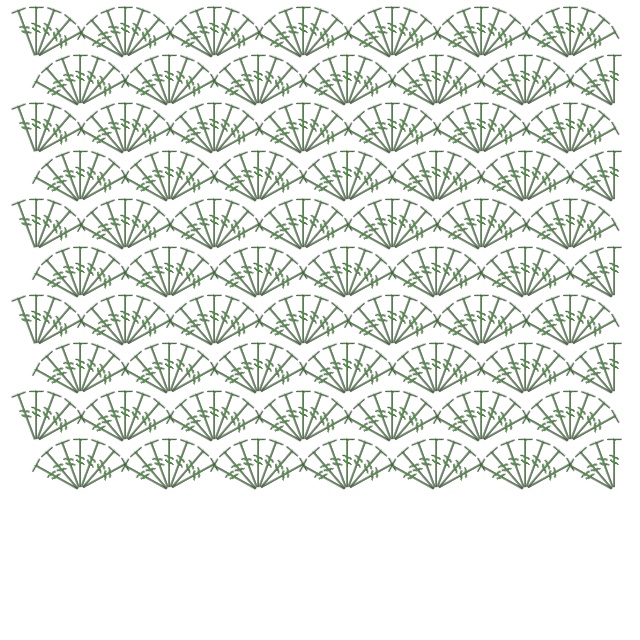fan: (30, 11, 79, 64), (84, 11, 133, 64), (119, 11, 168, 64), (173, 11, 222, 64), (208, 11, 257, 64), (262, 11, 311, 64), (297, 11, 346, 64), (351, 11, 400, 64), (386, 11, 435, 64), (440, 11, 489, 64), (475, 11, 524, 64), (529, 11, 578, 64), (564, 11, 613, 64), (39, 59, 88, 112), (74, 59, 123, 112), (128, 59, 177, 112), (163, 59, 212, 112), (217, 59, 266, 112), (252, 59, 301, 112), (306, 59, 355, 112), (341, 59, 390, 112), (395, 59, 444, 112), (430, 59, 479, 112), (484, 59, 533, 112), (519, 59, 568, 112), (573, 59, 622, 112), (30, 107, 79, 160), (84, 107, 133, 160), (119, 107, 168, 160), (173, 107, 222, 160), (208, 107, 257, 160), (262, 107, 311, 160), (297, 107, 346, 160), (351, 107, 400, 160), (386, 107, 435, 160), (440, 107, 489, 160), (475, 107, 524, 160), (529, 107, 578, 160), (564, 107, 613, 160), (39, 155, 88, 208), (74, 155, 123, 208), (128, 155, 177, 208), (163, 155, 212, 208), (217, 155, 266, 208), (252, 155, 301, 208), (306, 155, 355, 208), (341, 155, 390, 208), (395, 155, 444, 208), (430, 155, 479, 208), (484, 155, 533, 208), (519, 155, 568, 208), (573, 155, 622, 208), (30, 203, 79, 256), (84, 203, 133, 256), (119, 203, 168, 256), (173, 203, 222, 256), (208, 203, 257, 256), (262, 203, 311, 256), (297, 203, 346, 256), (351, 203, 400, 256), (386, 203, 435, 256), (440, 203, 489, 256), (475, 203, 524, 256), (529, 203, 578, 256), (564, 203, 613, 256), (39, 251, 88, 304), (74, 251, 123, 304), (128, 251, 177, 304), (163, 251, 212, 304), (217, 251, 266, 304), (252, 251, 301, 304), (306, 251, 355, 304), (341, 251, 390, 304), (395, 251, 444, 304), (430, 251, 479, 304), (484, 251, 533, 304), (519, 251, 568, 304), (573, 251, 622, 304), (30, 299, 79, 352), (84, 299, 133, 352), (119, 299, 168, 352), (173, 299, 222, 352), (208, 299, 257, 352), (262, 299, 311, 352), (297, 299, 346, 352), (351, 299, 400, 352), (386, 299, 435, 352), (440, 299, 489, 352), (475, 299, 524, 352), (529, 299, 578, 352), (564, 299, 613, 352), (39, 347, 88, 400), (74, 347, 123, 400), (128, 347, 177, 400), (163, 347, 212, 400), (217, 347, 266, 400), (252, 347, 301, 400), (306, 347, 355, 400), (341, 347, 390, 400), (395, 347, 444, 400), (430, 347, 479, 400), (484, 347, 533, 400), (519, 347, 568, 400), (573, 347, 622, 400), (30, 395, 79, 448), (84, 395, 133, 448), (119, 395, 168, 448), (173, 395, 222, 448), (208, 395, 257, 448), (262, 395, 311, 448), (297, 395, 346, 448), (351, 395, 400, 448), (386, 395, 435, 448), (440, 395, 489, 448), (475, 395, 524, 448), (529, 395, 578, 448), (564, 395, 613, 448), (39, 443, 88, 496), (74, 443, 123, 496), (128, 443, 177, 496), (163, 443, 212, 496), (217, 443, 266, 496), (252, 443, 301, 496), (306, 443, 355, 496), (341, 443, 390, 496), (395, 443, 444, 496), (430, 443, 479, 496), (484, 443, 533, 496), (519, 443, 568, 496), (573, 443, 622, 496), (32, 24, 89, 66), (74, 24, 131, 66), (121, 24, 178, 66), (163, 24, 220, 66), (210, 24, 267, 66), (252, 24, 309, 66), (299, 24, 356, 66), (341, 24, 398, 66), (388, 24, 445, 66), (430, 24, 487, 66), (477, 24, 534, 66), (519, 24, 576, 66), (566, 24, 623, 66), (29, 72, 86, 114), (76, 72, 133, 114), (118, 72, 175, 114), (165, 72, 222, 114), (207, 72, 264, 114), (254, 72, 311, 114), (296, 72, 353, 114), (343, 72, 400, 114), (385, 72, 442, 114), (432, 72, 489, 114), (474, 72, 531, 114), (521, 72, 578, 114), (563, 72, 620, 114), (32, 120, 89, 162), (74, 120, 131, 162), (121, 120, 178, 162), (163, 120, 220, 162), (210, 120, 267, 162), (252, 120, 309, 162), (299, 120, 356, 162), (341, 120, 398, 162), (388, 120, 445, 162), (430, 120, 487, 162), (477, 120, 534, 162), (519, 120, 576, 162), (566, 120, 623, 162), (29, 168, 86, 210), (76, 168, 133, 210), (118, 168, 175, 210), (165, 168, 222, 210), (207, 168, 264, 210), (254, 168, 311, 210), (296, 168, 353, 210), (343, 168, 400, 210), (385, 168, 442, 210), (432, 168, 489, 210), (474, 168, 531, 210), (521, 168, 578, 210), (563, 168, 620, 210), (32, 216, 89, 258), (74, 216, 131, 258), (121, 216, 178, 258), (163, 216, 220, 258), (210, 216, 267, 258), (252, 216, 309, 258), (299, 216, 356, 258), (341, 216, 398, 258), (388, 216, 445, 258), (430, 216, 487, 258), (477, 216, 534, 258), (519, 216, 576, 258), (566, 216, 623, 258), (29, 264, 86, 306), (76, 264, 133, 306), (118, 264, 175, 306), (165, 264, 222, 306), (207, 264, 264, 306), (254, 264, 311, 306), (296, 264, 353, 306), (343, 264, 400, 306), (385, 264, 442, 306), (432, 264, 489, 306), (474, 264, 531, 306), (521, 264, 578, 306), (563, 264, 620, 306), (32, 312, 89, 354), (74, 312, 131, 354), (121, 312, 178, 354), (163, 312, 220, 354), (210, 312, 267, 354), (252, 312, 309, 354), (299, 312, 356, 354), (341, 312, 398, 354), (388, 312, 445, 354), (430, 312, 487, 354), (477, 312, 534, 354), (519, 312, 576, 354), (566, 312, 623, 354), (29, 360, 86, 402), (76, 360, 133, 402), (118, 360, 175, 402), (165, 360, 222, 402), (207, 360, 264, 402), (254, 360, 311, 402), (296, 360, 353, 402), (343, 360, 400, 402), (385, 360, 442, 402), (432, 360, 489, 402), (474, 360, 531, 402), (521, 360, 578, 402), (563, 360, 620, 402), (32, 408, 89, 450), (74, 408, 131, 450), (121, 408, 178, 450), (163, 408, 220, 450), (210, 408, 267, 450), (252, 408, 309, 450), (299, 408, 356, 450), (341, 408, 398, 450), (388, 408, 445, 450), (430, 408, 487, 450), (477, 408, 534, 450), (519, 408, 576, 450), (566, 408, 623, 450), (29, 456, 86, 498), (76, 456, 133, 498), (118, 456, 175, 498), (165, 456, 222, 498), (207, 456, 264, 498), (254, 456, 311, 498), (296, 456, 353, 498), (343, 456, 400, 498), (385, 456, 442, 498), (432, 456, 489, 498), (474, 456, 531, 498), (521, 456, 578, 498), (563, 456, 620, 498), (9, 4, 46, 61), (28, 4, 65, 61), (98, 4, 135, 61), (117, 4, 154, 61), (187, 4, 224, 61), (206, 4, 243, 61), (276, 4, 313, 61), (295, 4, 332, 61), (365, 4, 402, 61), (384, 4, 421, 61), (454, 4, 491, 61), (473, 4, 510, 61), (543, 4, 580, 61), (562, 4, 599, 61), (53, 52, 90, 109), (72, 52, 109, 109), (142, 52, 179, 109), (161, 52, 198, 109), (231, 52, 268, 109), (250, 52, 287, 109), (320, 52, 357, 109), (339, 52, 376, 109), (409, 52, 446, 109), (428, 52, 465, 109), (498, 52, 535, 109), (517, 52, 554, 109), (587, 52, 624, 109), (9, 100, 46, 157), (28, 100, 65, 157), (98, 100, 135, 157), (117, 100, 154, 157), (187, 100, 224, 157), (206, 100, 243, 157), (276, 100, 313, 157), (295, 100, 332, 157), (365, 100, 402, 157), (384, 100, 421, 157), (454, 100, 491, 157), (473, 100, 510, 157), (543, 100, 580, 157), (562, 100, 599, 157), (53, 148, 90, 205), (72, 148, 109, 205), (142, 148, 179, 205), (161, 148, 198, 205), (231, 148, 268, 205), (250, 148, 287, 205), (320, 148, 357, 205), (339, 148, 376, 205), (409, 148, 446, 205), (428, 148, 465, 205), (498, 148, 535, 205), (517, 148, 554, 205), (587, 148, 624, 205), (9, 196, 46, 253), (28, 196, 65, 253), (98, 196, 135, 253), (117, 196, 154, 253), (187, 196, 224, 253), (206, 196, 243, 253), (276, 196, 313, 253), (295, 196, 332, 253), (365, 196, 402, 253), (384, 196, 421, 253), (454, 196, 491, 253), (473, 196, 510, 253), (543, 196, 580, 253), (562, 196, 599, 253), (53, 244, 90, 301), (72, 244, 109, 301), (142, 244, 179, 301), (161, 244, 198, 301), (231, 244, 268, 301), (250, 244, 287, 301), (320, 244, 357, 301), (339, 244, 376, 301), (409, 244, 446, 301), (428, 244, 465, 301), (498, 244, 535, 301), (517, 244, 554, 301), (587, 244, 624, 301), (9, 292, 46, 349), (28, 292, 65, 349), (98, 292, 135, 349), (117, 292, 154, 349), (187, 292, 224, 349), (206, 292, 243, 349), (276, 292, 313, 349), (295, 292, 332, 349), (365, 292, 402, 349), (384, 292, 421, 349), (454, 292, 491, 349), (473, 292, 510, 349), (543, 292, 580, 349), (562, 292, 599, 349), (53, 340, 90, 397), (72, 340, 109, 397), (142, 340, 179, 397), (161, 340, 198, 397), (231, 340, 268, 397), (250, 340, 287, 397), (320, 340, 357, 397), (339, 340, 376, 397), (409, 340, 446, 397), (428, 340, 465, 397), (498, 340, 535, 397), (517, 340, 554, 397), (587, 340, 624, 397), (9, 388, 46, 445), (28, 388, 65, 445), (98, 388, 135, 445), (117, 388, 154, 445), (187, 388, 224, 445), (206, 388, 243, 445), (276, 388, 313, 445), (295, 388, 332, 445), (365, 388, 402, 445), (384, 388, 421, 445), (454, 388, 491, 445), (473, 388, 510, 445), (543, 388, 580, 445), (562, 388, 599, 445), (53, 436, 90, 493), (72, 436, 109, 493), (142, 436, 179, 493), (161, 436, 198, 493), (231, 436, 268, 493), (250, 436, 287, 493), (320, 436, 357, 493), (339, 436, 376, 493), (409, 436, 446, 493), (428, 436, 465, 493), (498, 436, 535, 493), (517, 436, 554, 493), (587, 436, 624, 493), (116, 4, 136, 58), (294, 4, 314, 58), (472, 4, 492, 58), (160, 52, 180, 106), (338, 52, 358, 106), (516, 52, 536, 106), (116, 100, 136, 154), (294, 100, 314, 154), (472, 100, 492, 154), (160, 148, 180, 202), (338, 148, 358, 202), (516, 148, 536, 202), (116, 196, 136, 250), (294, 196, 314, 250), (472, 196, 492, 250), (160, 244, 180, 298), (338, 244, 358, 298), (516, 244, 536, 298), (116, 292, 136, 346), (294, 292, 314, 346), (472, 292, 492, 346), (160, 340, 180, 394), (338, 340, 358, 394), (516, 340, 536, 394), (116, 388, 136, 442), (294, 388, 314, 442), (472, 388, 492, 442), (160, 436, 180, 490), (338, 436, 358, 490), (516, 436, 536, 490), (28, 4, 46, 58), (206, 4, 224, 58), (384, 4, 402, 58), (562, 4, 580, 58), (72, 52, 90, 106), (250, 52, 268, 106), (428, 52, 446, 106), (606, 52, 624, 106), (28, 100, 46, 154), (206, 100, 224, 154), (384, 100, 402, 154), (562, 100, 580, 154), (72, 148, 90, 202), (250, 148, 268, 202), (428, 148, 446, 202), (606, 148, 624, 202), (28, 196, 46, 250), (206, 196, 224, 250), (384, 196, 402, 250), (562, 196, 580, 250), (72, 244, 90, 298), (250, 244, 268, 298), (428, 244, 446, 298), (606, 244, 624, 298), (28, 292, 46, 346), (206, 292, 224, 346), (384, 292, 402, 346), (562, 292, 580, 346), (72, 340, 90, 394), (250, 340, 268, 394), (428, 340, 446, 394), (606, 340, 624, 394), (28, 388, 46, 442), (206, 388, 224, 442), (384, 388, 402, 442), (562, 388, 580, 442), (72, 436, 90, 490), (250, 436, 268, 490), (428, 436, 446, 490), (606, 436, 624, 490)
